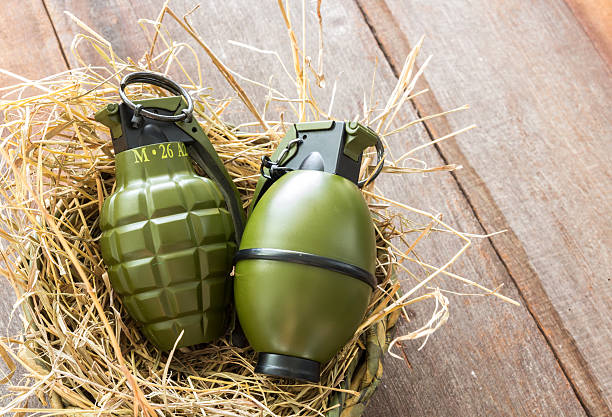e1: (93, 69, 244, 350), (236, 120, 387, 379)
